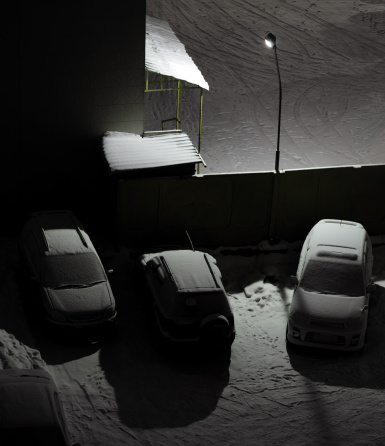car: (28, 221, 120, 344)
